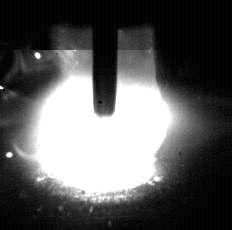arame: (94, 0, 117, 118)
poca: (38, 0, 169, 230)
